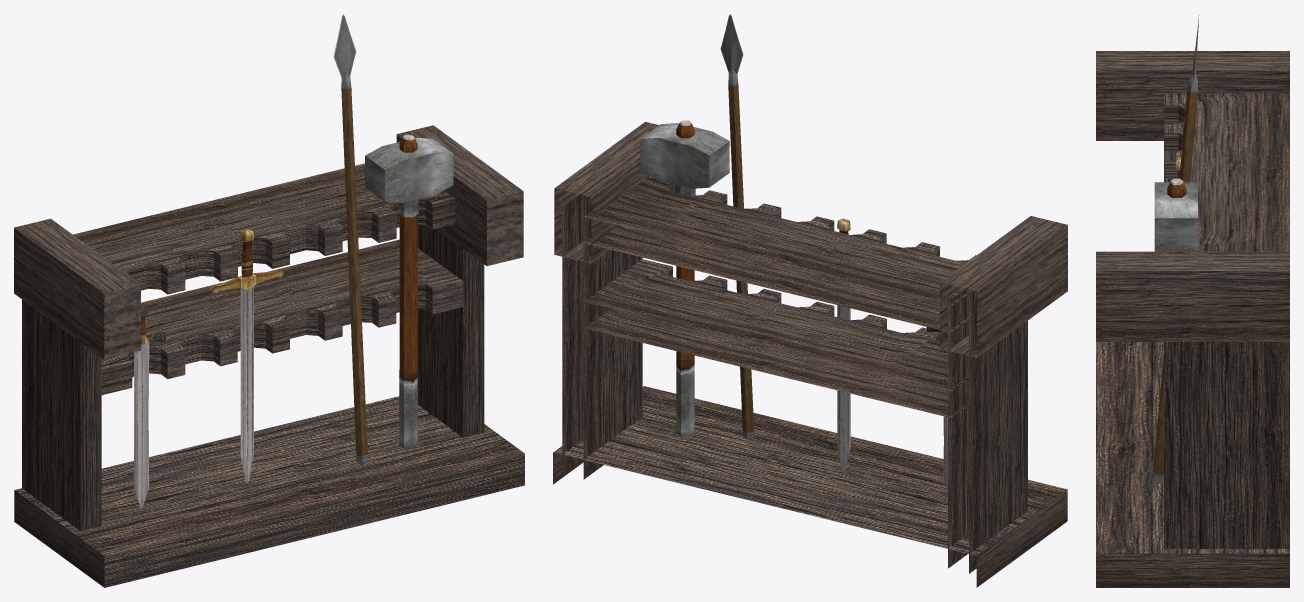
File: mm9_deco_weaponracknsnewg2.glb
The picture shows the model from 3 angles, left to right: view 1: azimuth 30°, elevation 25°; view 2: azimuth 150°, elevation 25°; view 3: azimuth 270°, elevation 25°; orthographic projection. The views are drawn at different scales.
Parts seen in each view (by area): view 1: Weaponracknsnewg2; view 2: Weaponracknsnewg2; view 3: Weaponracknsnewg2.
Part boxes in pixels (<box>): Weaponracknsnewg2: <box>14,14,524,587</box>; Weaponracknsnewg2: <box>553,14,1067,587</box>; Weaponracknsnewg2: <box>1096,15,1289,587</box>.
Bounding box in the file's own units: 1.95 × 2.08 × 0.7263.
2 materials, 2 textured.
